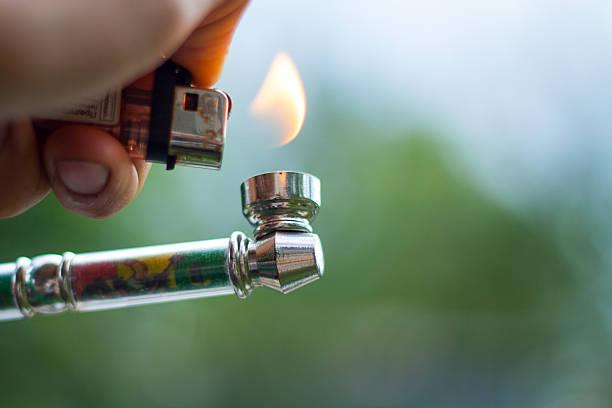Fire: (249, 44, 313, 153)
